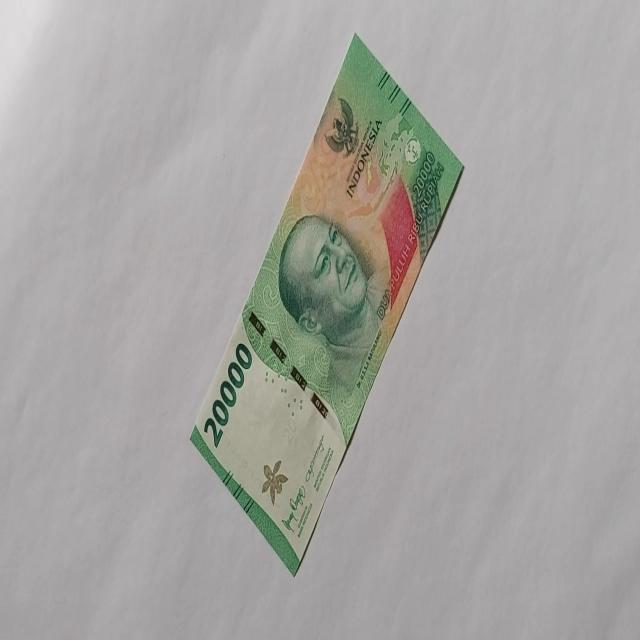dua puluh ribu rupiah: (188, 31, 464, 576), (276, 210, 388, 394), (202, 341, 252, 449)
